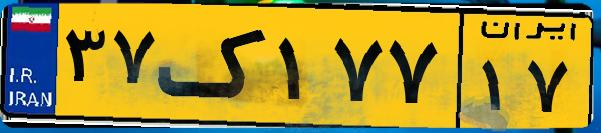1: (270, 28, 330, 110), (475, 38, 525, 113)
3: (57, 26, 110, 100)
7: (385, 28, 445, 110), (330, 28, 385, 110), (525, 38, 570, 115), (110, 28, 158, 98)
ک: (158, 12, 270, 120)
